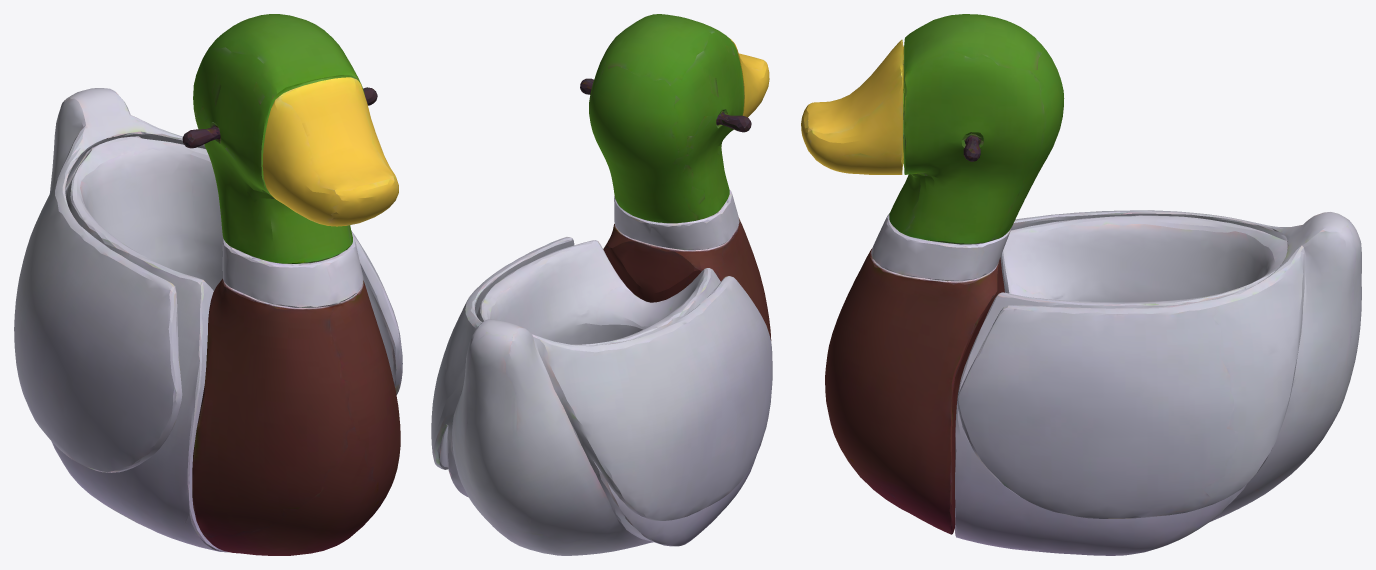
Rendered from duck.glb.
3 renders of one model, left to right at view 1: azimuth 30°, elevation 25°; view 2: azimuth 150°, elevation 25°; view 3: azimuth 270°, elevation 25°, orthographic. The views are drawn at different scales.
Parts seen in each view (by area): view 1: Mesh; view 2: Mesh; view 3: Mesh.
Boxes of the visible parts, x1,y1,x2,y2 form: Mesh: (14,14,402,555); Mesh: (431,14,772,555); Mesh: (801,14,1361,555).
Bounding box in the file's own units: 0.5821 × 0.9813 × 1.
Materials: 1 (1 with a texture image).
